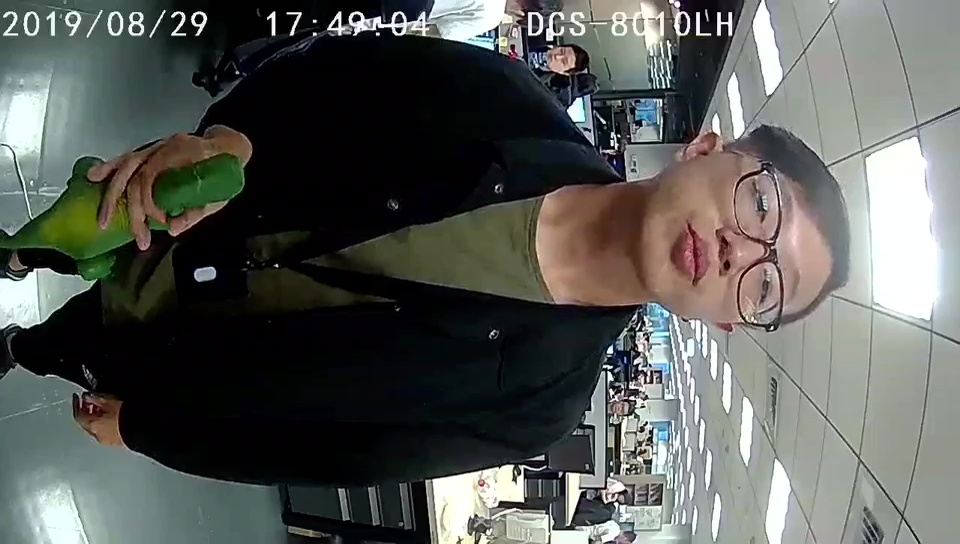rex: (36, 151, 247, 282)
